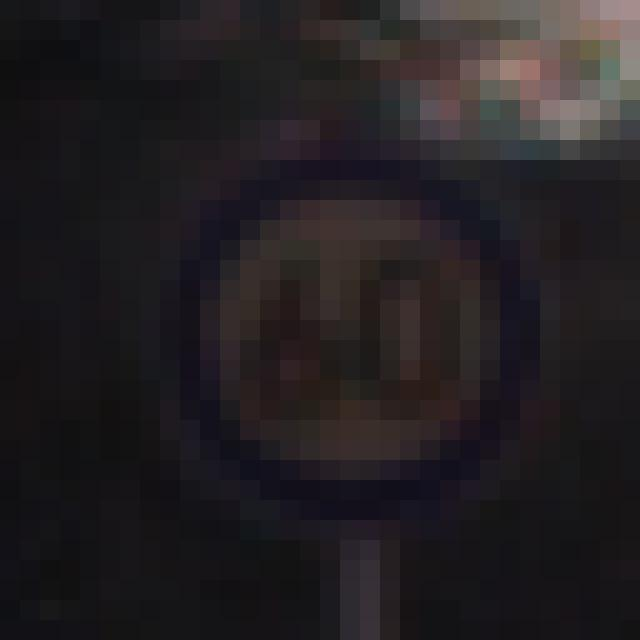SPEED-LIMIT-60: (144, 156, 553, 535)
